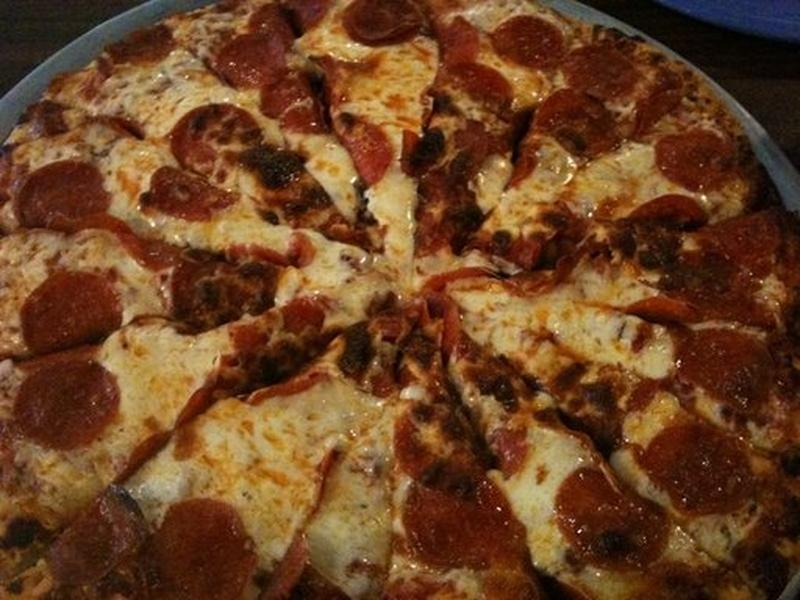pizza: (11, 11, 786, 600)
